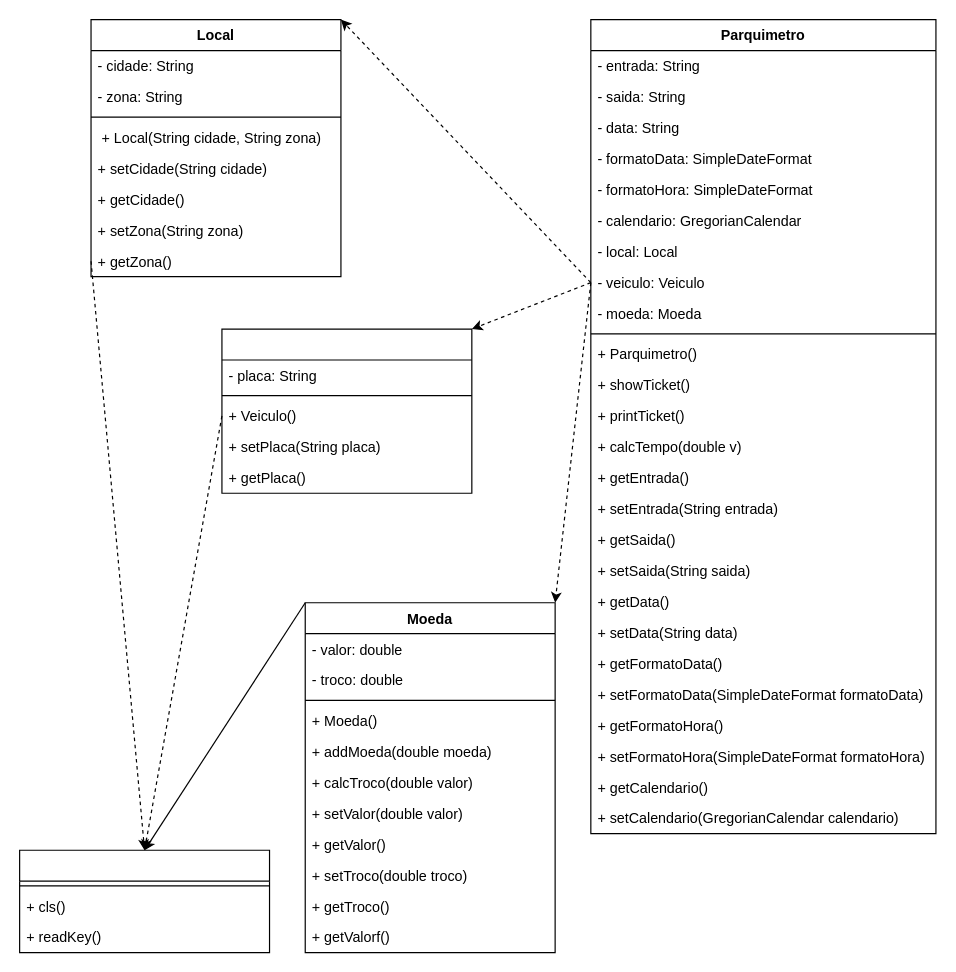
The diagram is 956 pixels wide and 972 high, and some of its shapes have lost their labels. The shapes that lost their labels are listed below. From the top down, each one's box as (x1, y1, x2, y2) in pixels, then its label:
(221, 328, 472, 493): Veículo
(18, 849, 270, 953): Tools
